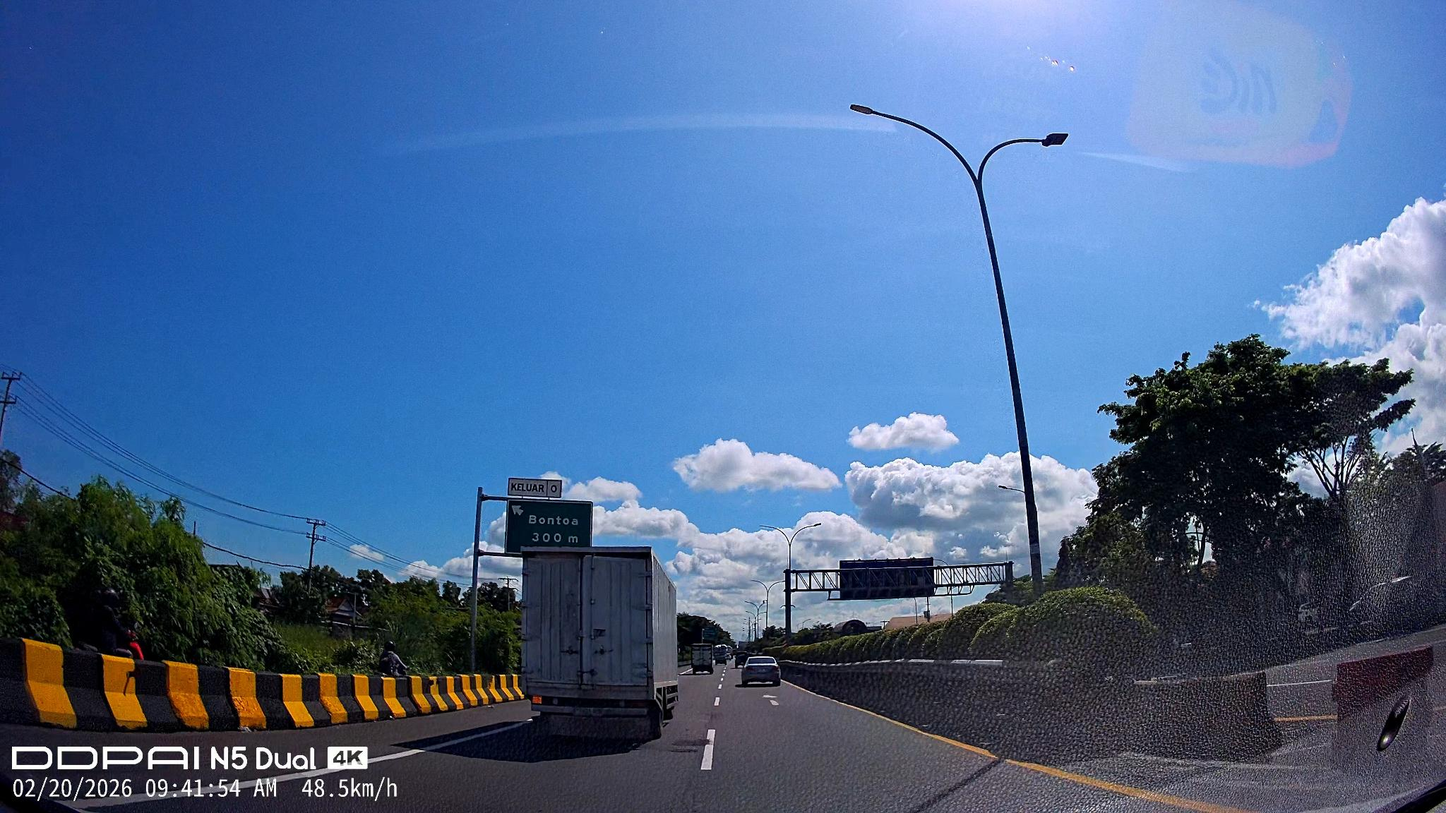rambu_teks: (507, 498, 594, 546)
